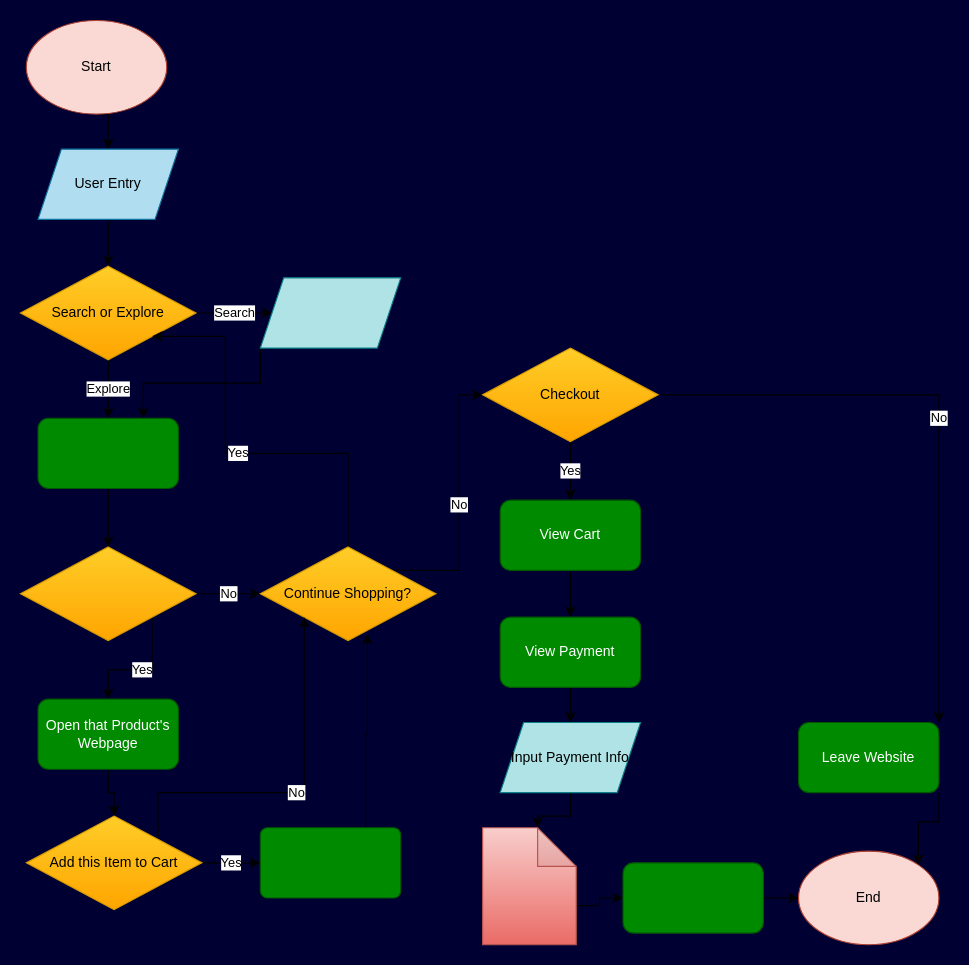
The diagram is 969 pixels wide and 965 high, and some of its shapes have lost their labels. Here are the shapes that lost their labels. From the top down, the centre of each, then its label:
At point (330, 312): "Search Input".
At point (107, 452): "Product Observation".
At point (107, 593): "View a Specific Product".
At point (330, 862): "Added to Cart Confirmation".
At point (528, 886): "Send order confirmation email".
At point (692, 897): "Order Confirmation Screen".
